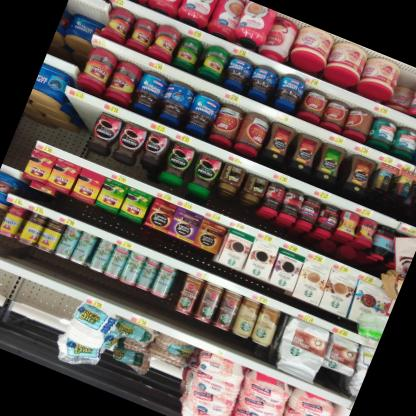empty_space: (8, 277, 82, 337), (0, 254, 15, 310)
